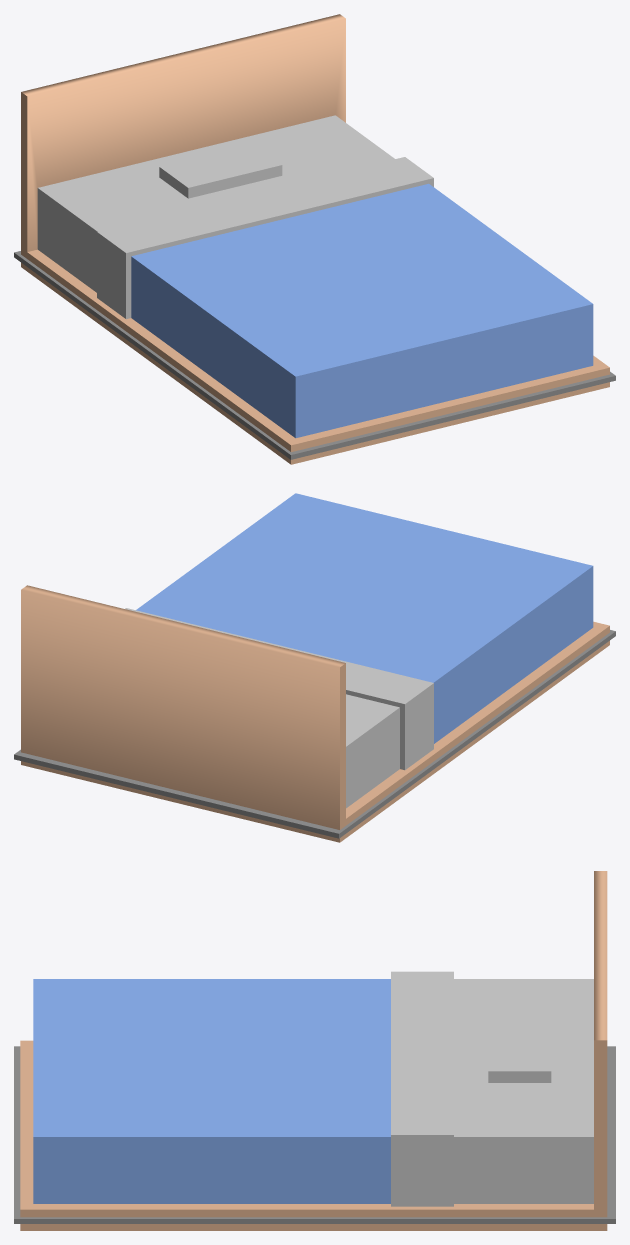
File: bed.FBX
3 renders of one model, top to bottom at view 1: azimuth 30°, elevation 25°; view 2: azimuth 150°, elevation 25°; view 3: azimuth 270°, elevation 25°, orthographic. The views are drawn at different scales.
Parts seen in each view (by area): view 1: Bed; view 2: Bed; view 3: Bed.
Boxes of the visible parts, x1,y1,x2,y2 form: Bed: (14, 14, 615, 464); Bed: (14, 493, 615, 842); Bed: (14, 871, 615, 1230).
Size of the model in its own units: 21.84 by 11.25 by 32.21.
